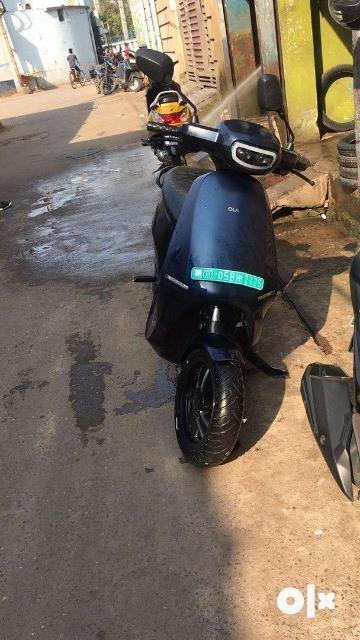Indian_Number_Plate: (191, 267, 265, 290)
